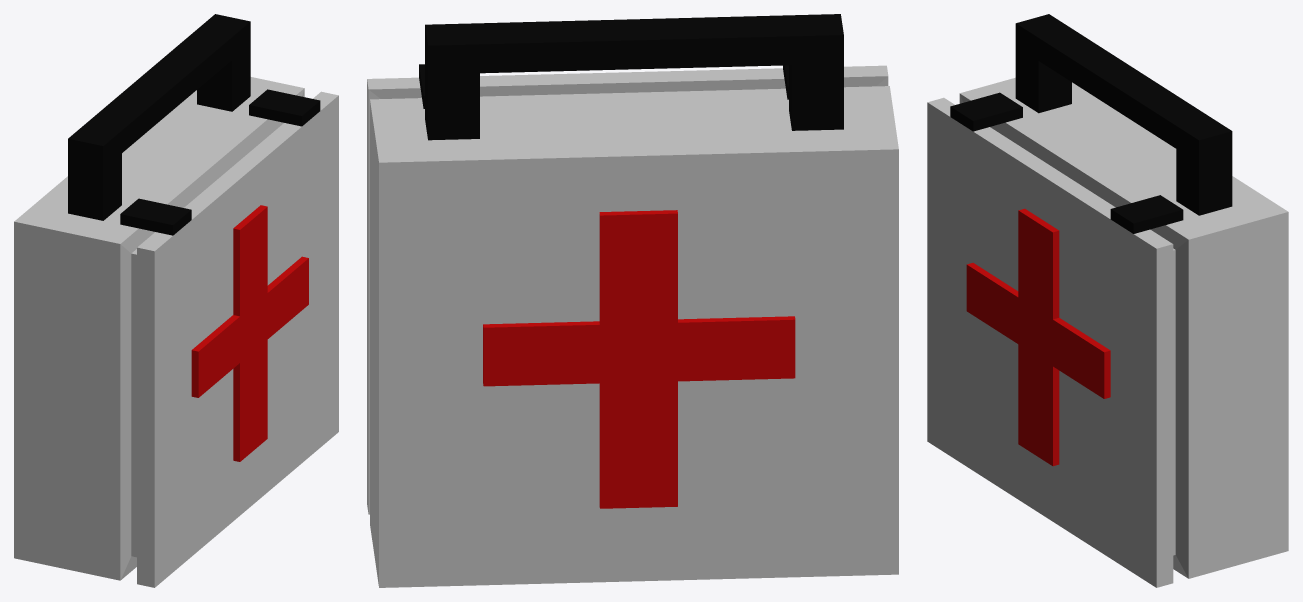
Rendered from medkit.obj.
3 views of the same model, side by side, from view 1: azimuth 30°, elevation 25°; view 2: azimuth 150°, elevation 25°; view 3: azimuth 270°, elevation 25° (orthographic). The views are drawn at different scales.
Visible parts, largest first — view 1: Grid; view 2: Grid; view 3: Grid.
Part boxes in pixels (x1,y1,x2,y2): Grid: (14,14,338,587); Grid: (367,14,898,587); Grid: (927,14,1288,587).
Size of the model in its own units: 0.9862 by 1.04 by 0.8212.
